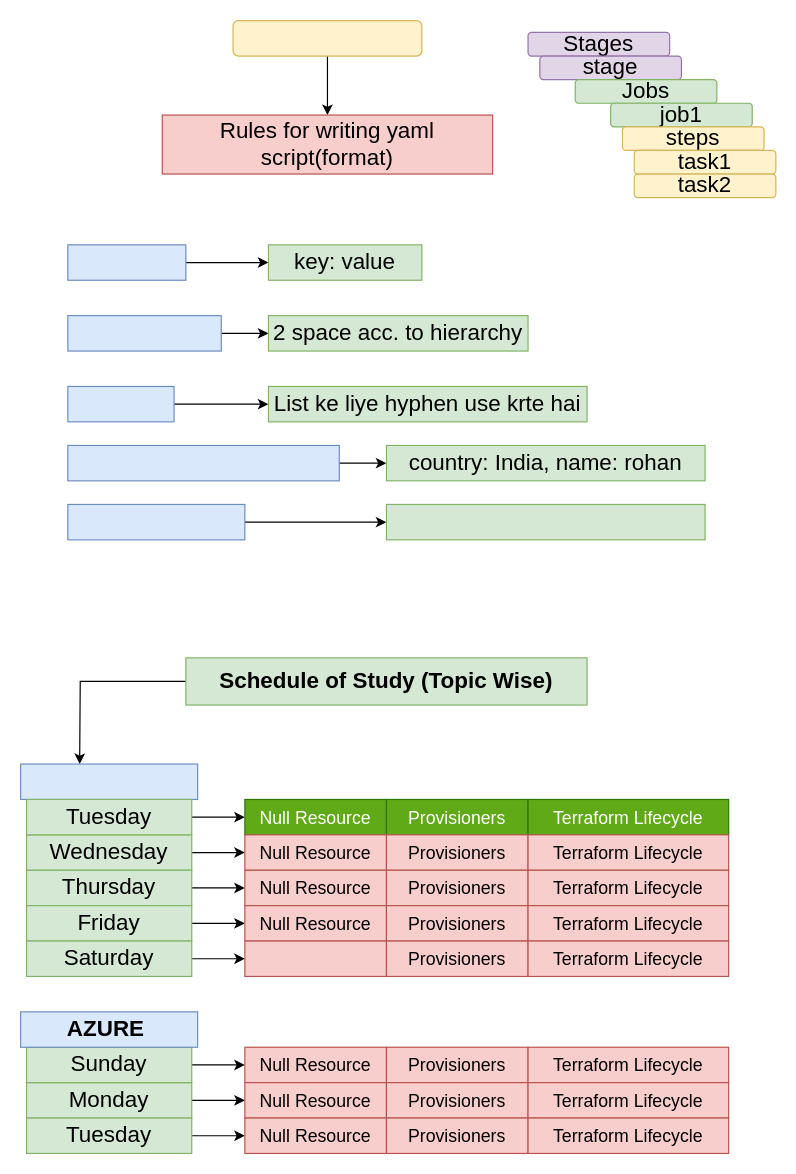
Some shapes in this 796 by 1174 pixel diagram are drawn without their labels. Each missing label, with the box of its shape:
1) Collon: (67, 244, 186, 280)
2) Indentation: (67, 314, 221, 351)
3) List: (67, 385, 174, 422)
4) String/Number/Boolean: (67, 444, 339, 481)
5) List of Maps: (67, 503, 245, 540)
Class: (244, 940, 386, 976)
TERRAFORM: (19, 763, 198, 799)
YAML Pipeline: (232, 19, 422, 56)
